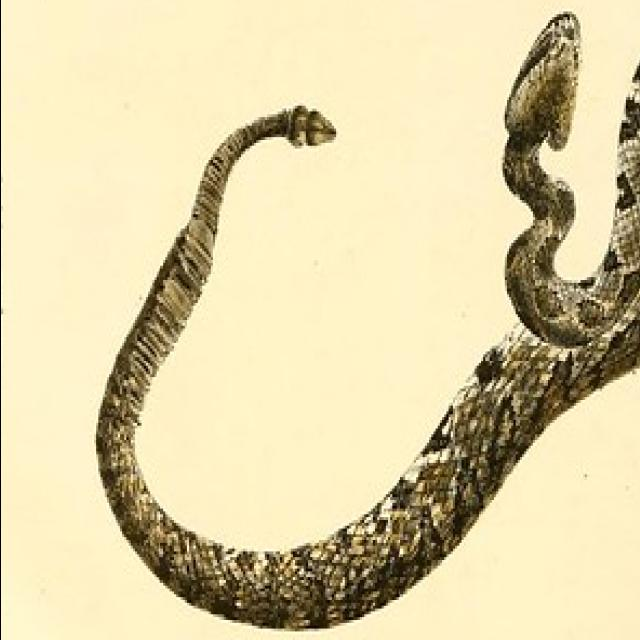Snake: (95, 0, 640, 631)
